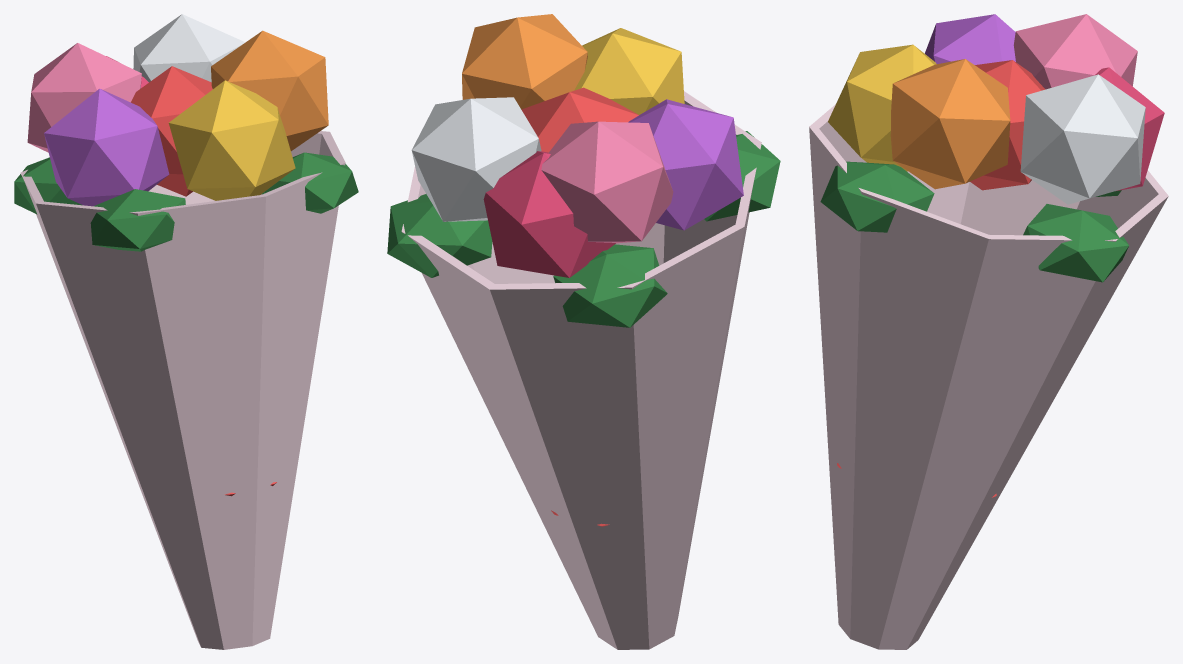
Rendered from bouquet.glb.
3 views of the same model, side by side, from view 1: azimuth 30°, elevation 25°; view 2: azimuth 150°, elevation 25°; view 3: azimuth 270°, elevation 25° (orthographic). The views are drawn at different scales.
Parts seen in each view (by area): view 1: bouquet; view 2: bouquet; view 3: bouquet.
Part boxes in pixels (x1=…): bouquet: x1=14, y1=14, x2=358, y2=649; bouquet: x1=387, y1=14, x2=780, y2=649; bouquet: x1=809, y1=14, x2=1168, y2=649.
Size of the model in its own units: 0.18 by 0.3335 by 0.1761.
